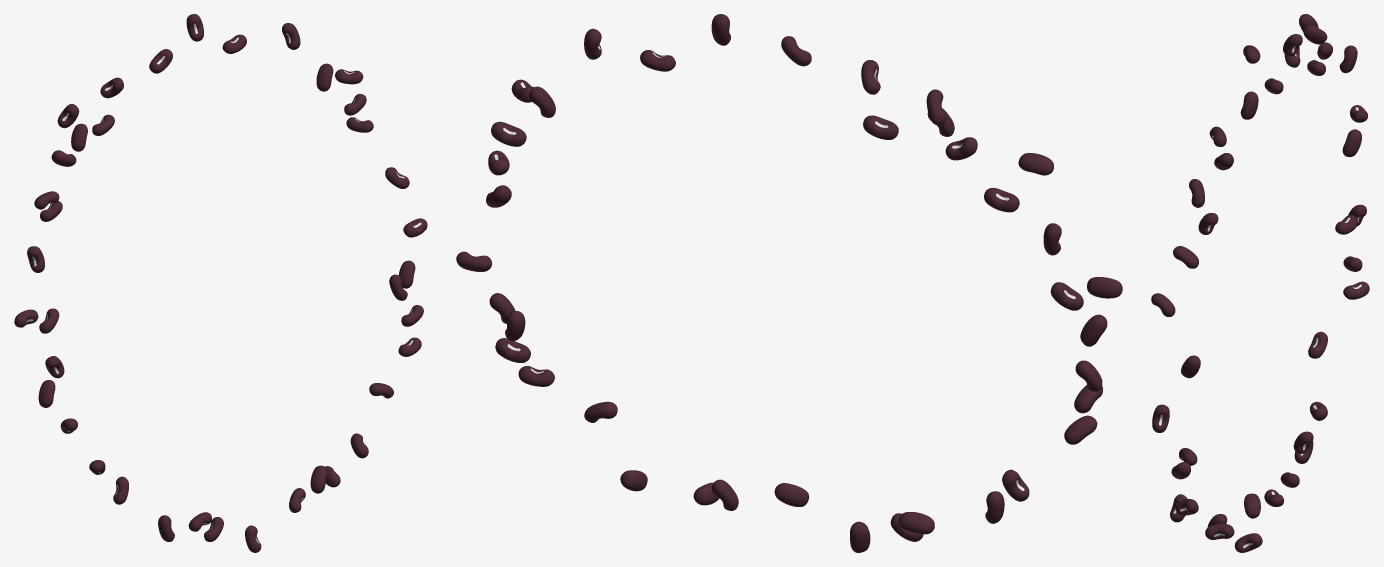
File: red_bean2.glb
3 views of the same model, side by side, from view 1: azimuth 30°, elevation 25°; view 2: azimuth 150°, elevation 25°; view 3: azimuth 270°, elevation 25° (orthographic). The views are drawn at different scales.
Parts seen in each view (by area): view 1: Cube.209; view 2: Cube.209; view 3: Cube.209.
Boxes of the visible parts, bbox=[...] form: Cube.209: bbox=[14, 14, 427, 552]; Cube.209: bbox=[456, 14, 1122, 552]; Cube.209: bbox=[1151, 14, 1369, 552].
Size of the model in its own units: 18.57 by 18.08 by 7.35.
